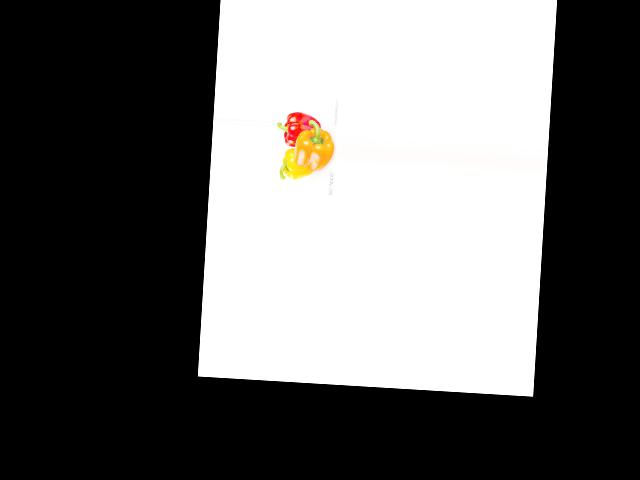bell_pepper: (277, 146, 315, 183)
